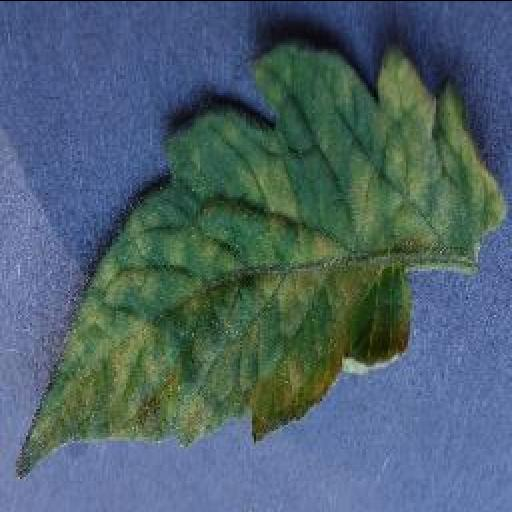disease_tomato: (14, 34, 512, 472)
